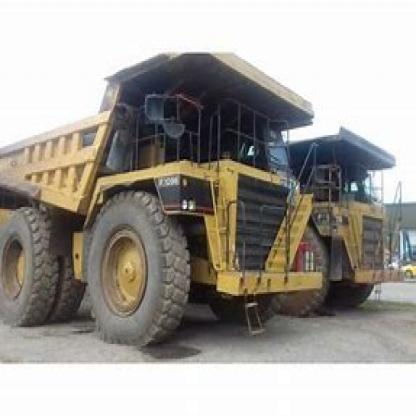dump_truck: (3, 35, 325, 338), (316, 124, 415, 312)
